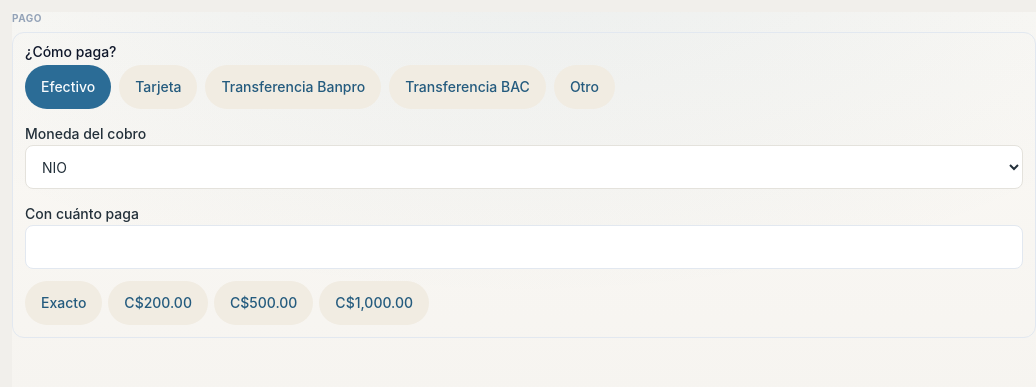
it: PosPaymentFields › calcula el vuelto en vivo con la regla del negocio
Type "100" into the number field labelled "Con cuánto paga" at (524, 247), box [25,225,1023,269]
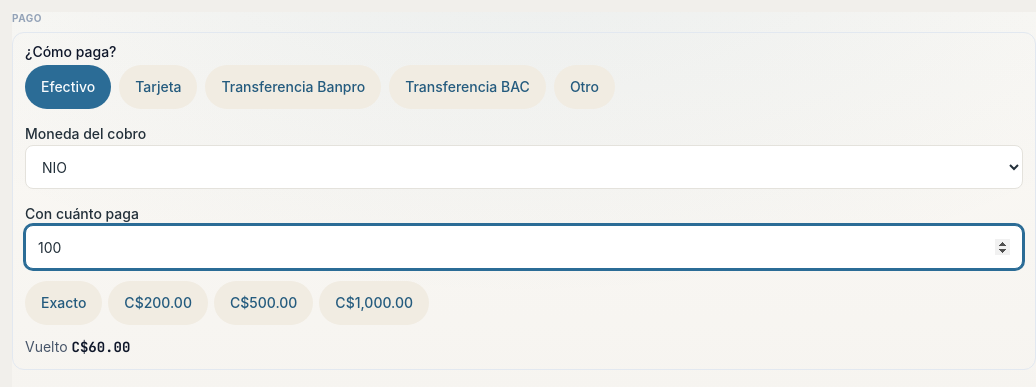
Expected: the text "Vuelto" is shown, [25,338,68,355]
